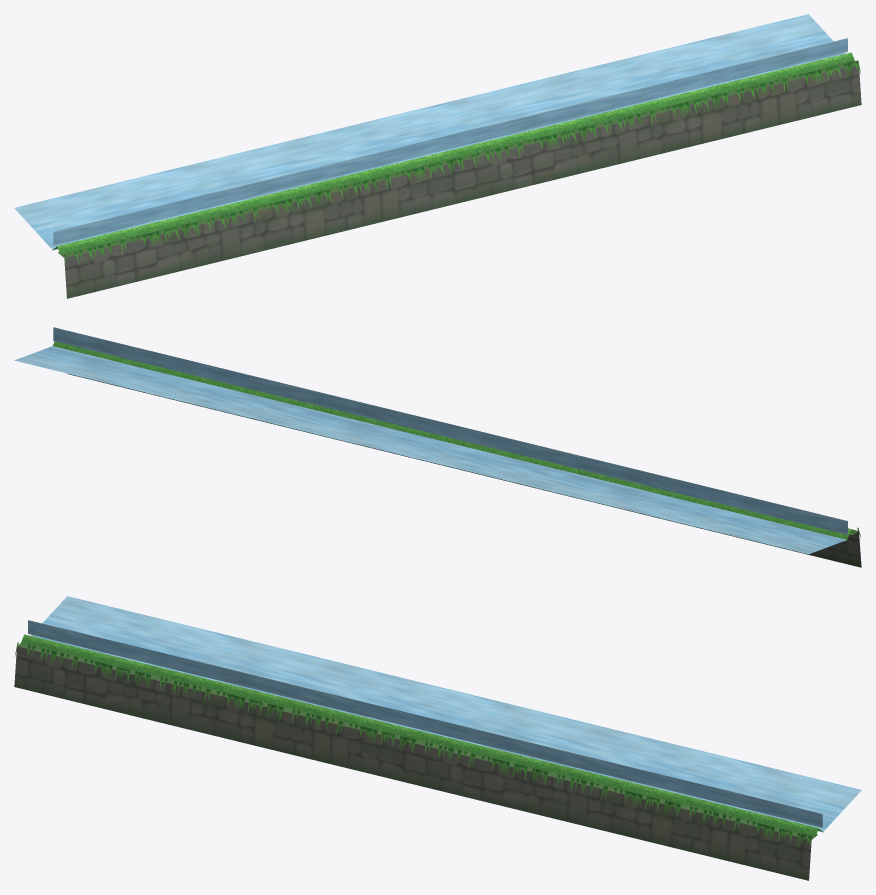
File: terrace_straight_flooded_far24.glb
The picture shows the model from 3 angles, top to bottom: view 1: azimuth 30°, elevation 25°; view 2: azimuth 150°, elevation 25°; view 3: azimuth 330°, elevation 25°; orthographic projection.
Visible parts, largest first — view 1: terrace_straight_flooded_far24_water, terrace_straight_flooded_far24_wall, terrace_straight_flooded_far24_dike, terrace_straight_flooded_far24_cards; view 2: terrace_straight_flooded_far24_water, terrace_straight_flooded_far24_dike, terrace_straight_flooded_far24_wall; view 3: terrace_straight_flooded_far24_water, terrace_straight_flooded_far24_wall, terrace_straight_flooded_far24_dike, terrace_straight_flooded_far24_cards.
Part boxes in pixels (x1,y1,x2,y2): terrace_straight_flooded_far24_water: (14,14,847,249); terrace_straight_flooded_far24_wall: (58,60,861,298); terrace_straight_flooded_far24_dike: (52,52,854,254); terrace_straight_flooded_far24_cards: (63,60,860,268); terrace_straight_flooded_far24_water: (14,327,847,554); terrace_straight_flooded_far24_dike: (53,341,854,541); terrace_straight_flooded_far24_wall: (67,373,861,567); terrace_straight_flooded_far24_water: (28,596,861,831); terrace_straight_flooded_far24_wall: (14,642,817,880); terrace_straight_flooded_far24_dike: (21,634,823,836); terrace_straight_flooded_far24_cards: (14,642,812,849).
Size of the model in its own units: 24 by 1.64 by 2.79.
Materials: 3 (3 with a texture image).
